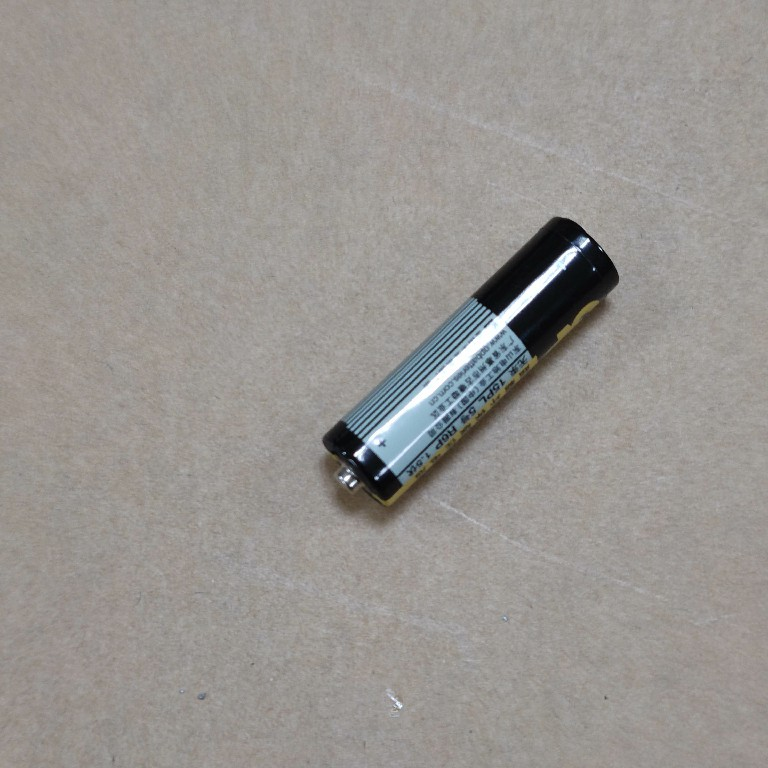charge: (315, 209, 623, 512)
